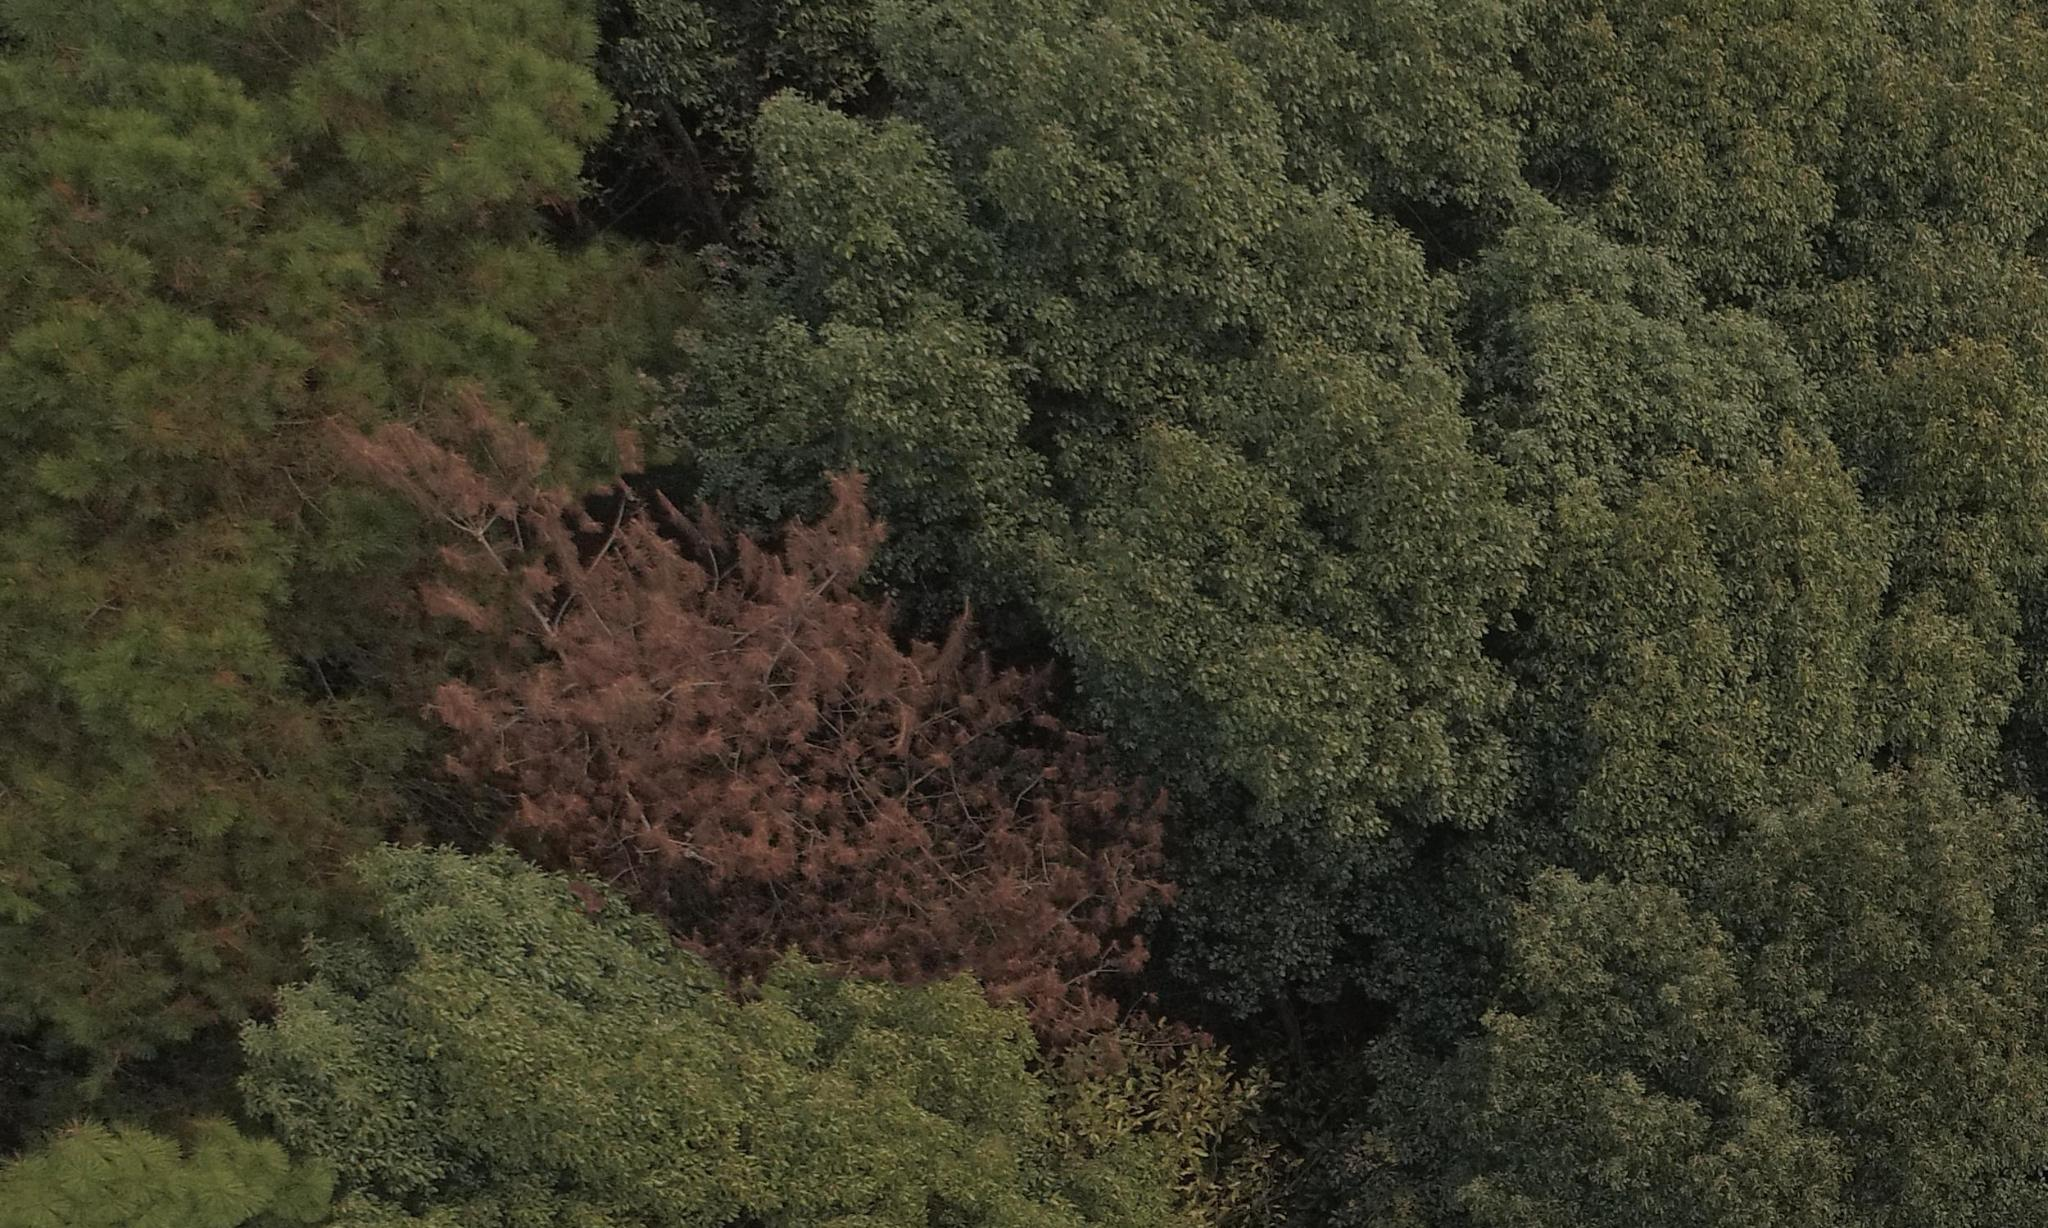heavy: (336, 374, 1174, 1061)
light: (23, 190, 276, 1006)
